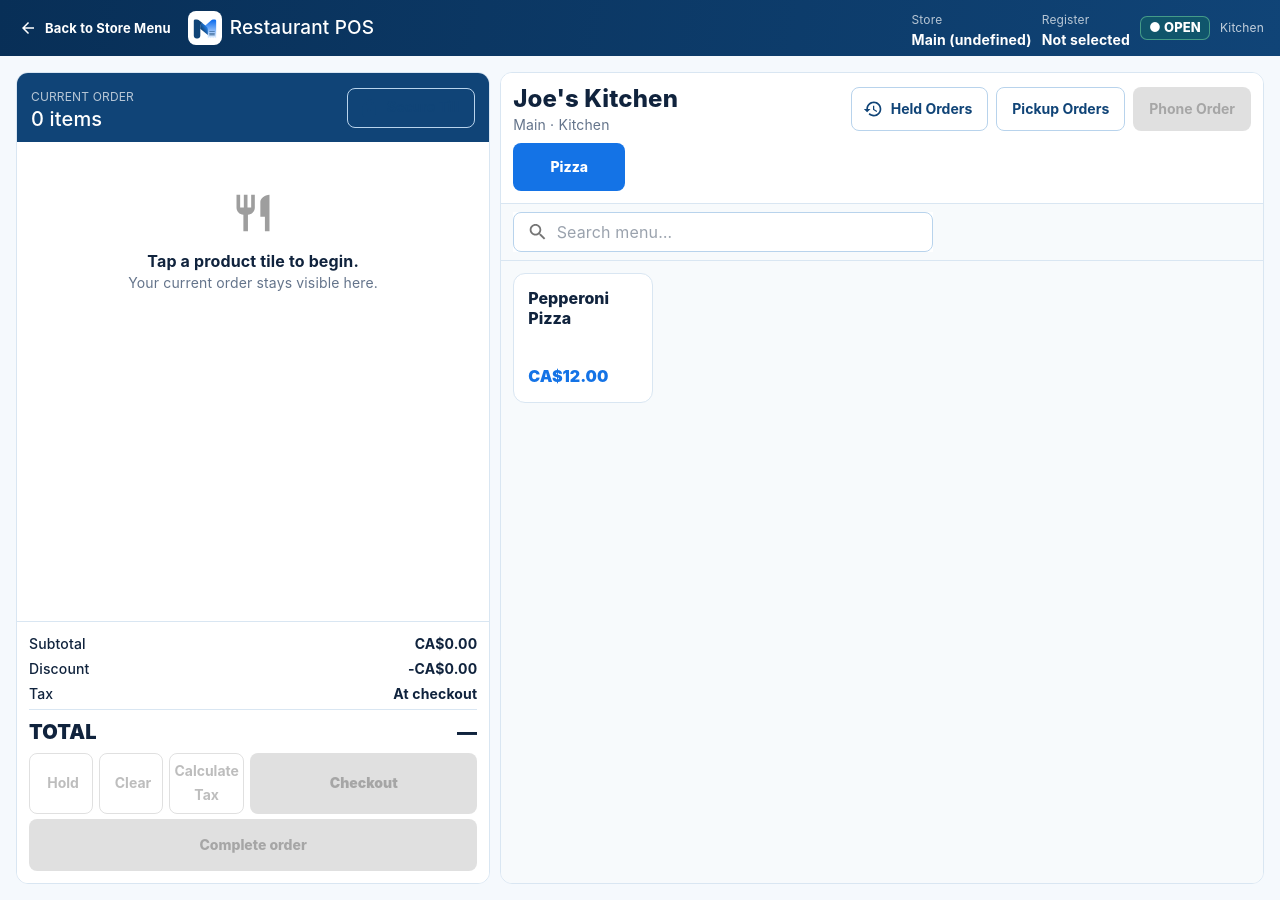
it: Food POS › keeps the restaurant cart intact and shows a friendly error when checkout fails
Step 1. Click the text "Pepperoni Pizza" → (569, 308), box [528,288,609,328]
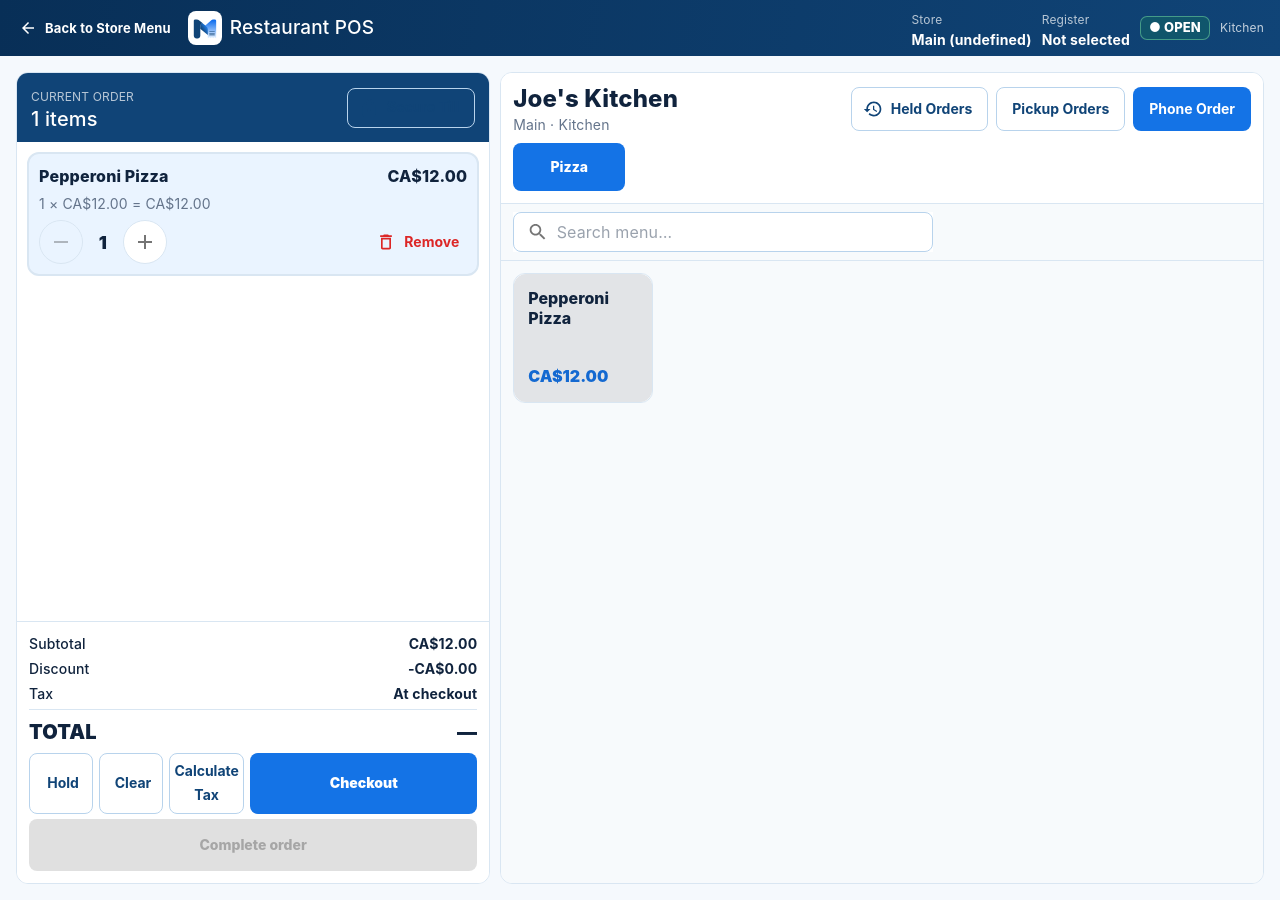
Step 2. Click the button "Checkout" → (364, 783), box [250,753,477,814]
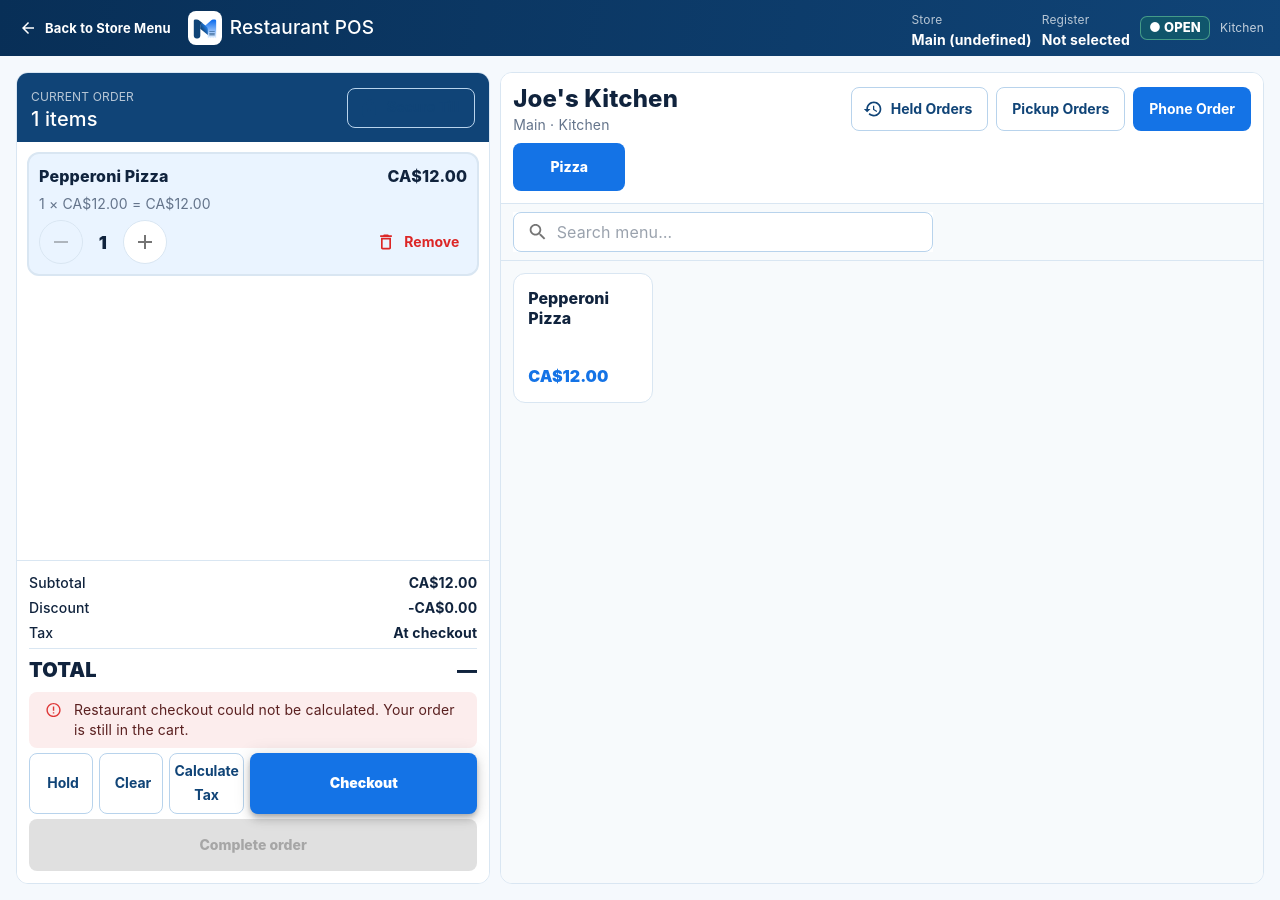
Check: the text "Pepperoni Pizza" below "items" is shown, box [39,166,168,186]
Check: the text "1 × CA$12.00 = CA$12.00" is shown, box [39,195,211,212]
Check: the text "Restaurant checkout could not be calculated. Your order is still in the cart." is shown, box [74,692,461,748]
